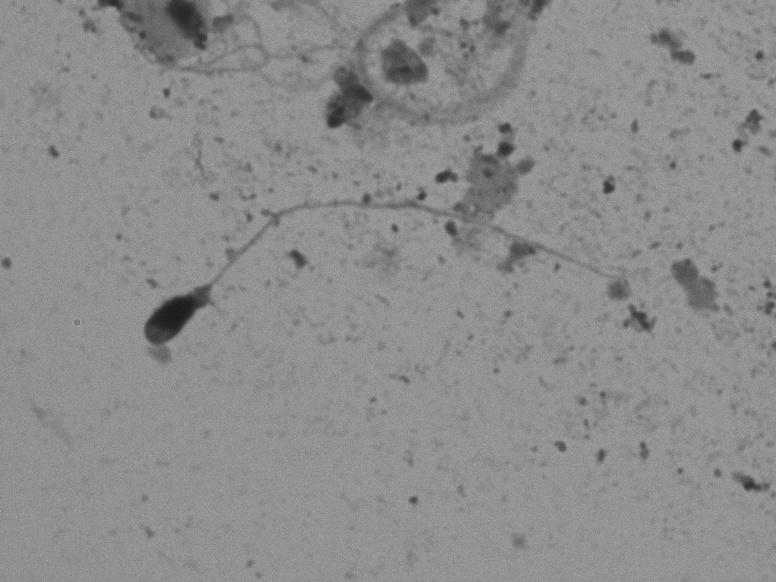Abnormal: (132, 164, 666, 378)
